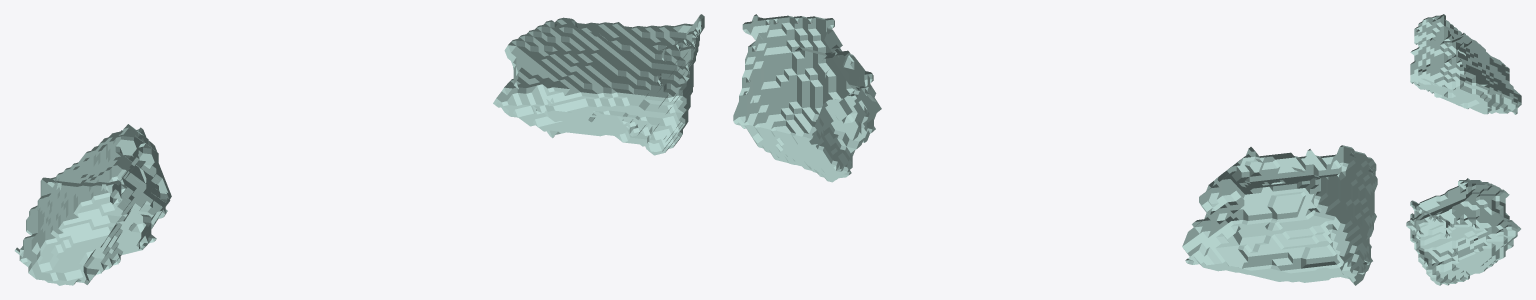
The model's file is region_0096_nLOT-i__nucleus_of_the_lateral_olfactory_tract__intermediate_part_.glb.
3 renders of one model, left to right at view 1: azimuth 30°, elevation 25°; view 2: azimuth 150°, elevation 25°; view 3: azimuth 270°, elevation 25°, orthographic. The views are drawn at different scales.
Visible parts, largest first — view 1: world; view 2: world; view 3: world.
Boxes of the visible parts, <box> form: world: <box>14,14,704,285</box>; world: <box>733,14,1377,285</box>; world: <box>1406,14,1521,285</box>.
Size of the model in its own units: 1.01 by 0.184 by 0.232.
